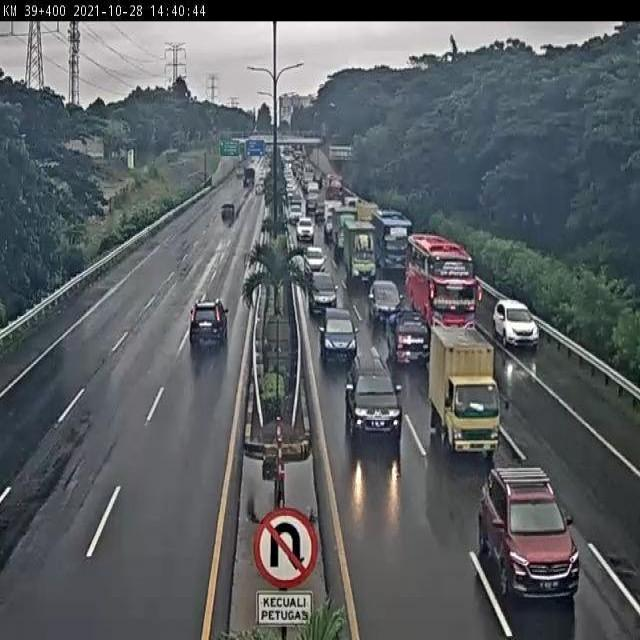bus-l-: (406, 231, 479, 341), (370, 209, 415, 276)
car: (476, 465, 581, 600), (344, 351, 403, 444), (384, 304, 435, 369), (491, 298, 541, 350), (189, 296, 230, 353), (319, 305, 359, 363), (367, 279, 404, 325), (305, 268, 339, 316), (302, 243, 326, 272)
truck-m-: (342, 217, 379, 288)
truck-s-: (427, 321, 502, 459)
